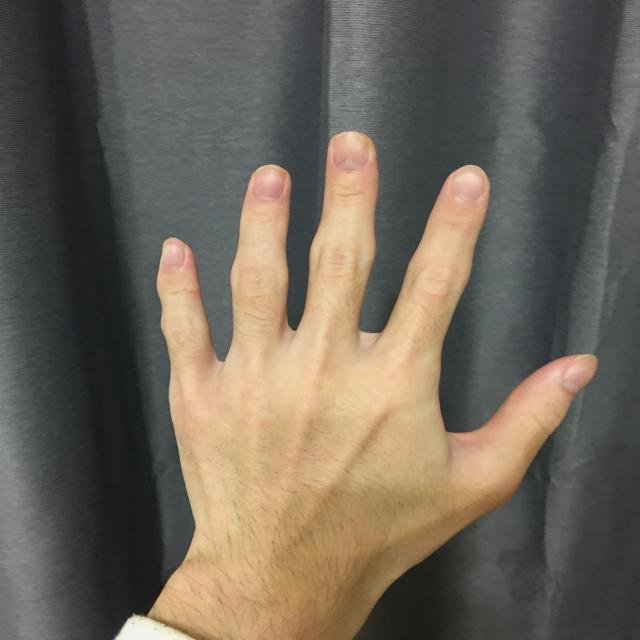no_glove: (137, 121, 606, 622)
